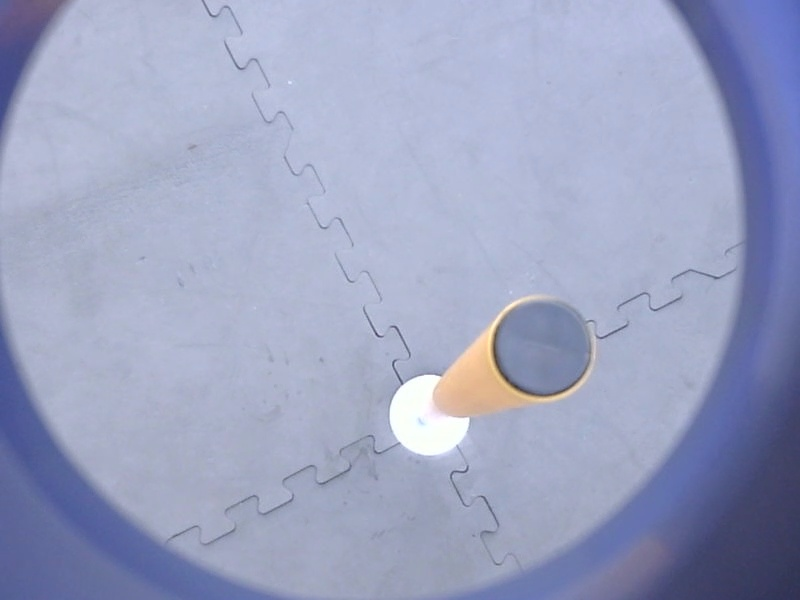tip: (484, 289, 603, 406)
